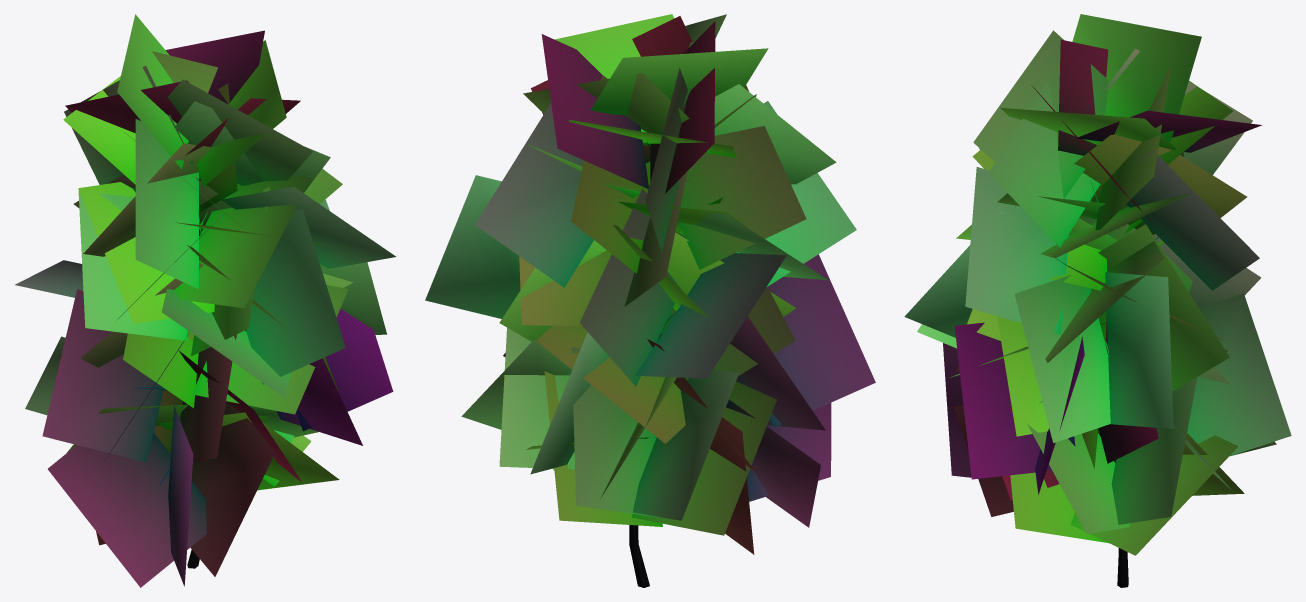
The model's file is M_P15_Tree_10.fbx.
3 views of the same model, side by side, from view 1: azimuth 30°, elevation 25°; view 2: azimuth 150°, elevation 25°; view 3: azimuth 270°, elevation 25° (orthographic). The views are drawn at different scales.
Visible parts, largest first — view 1: Tree_10; view 2: Tree_10; view 3: Tree_10.
Boxes of the visible parts, <box> form: Tree_10: <box>15,14,396,587</box>; Tree_10: <box>425,14,875,587</box>; Tree_10: <box>904,14,1291,587</box>.
Bounding box in the file's own units: 498 × 736 × 479.
